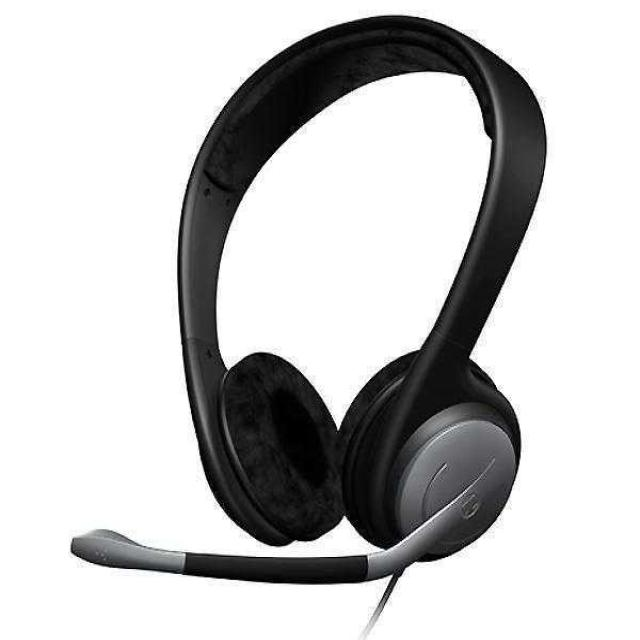microphone: (59, 525, 265, 591)
